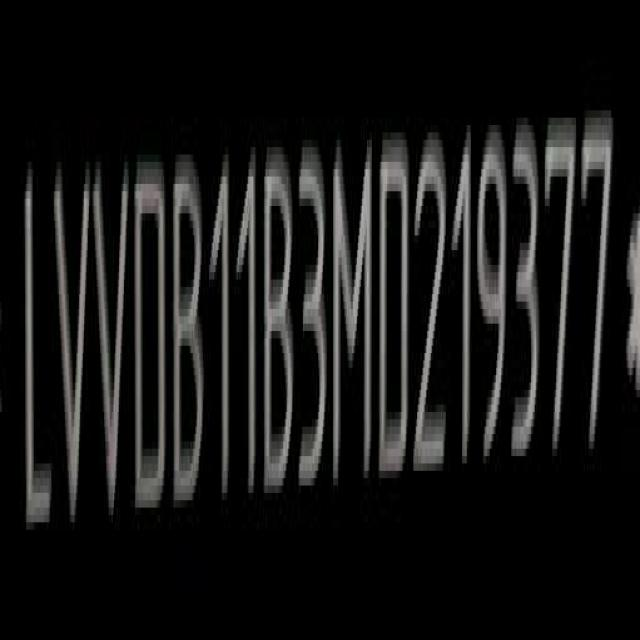1: (234, 147, 257, 509), (212, 154, 234, 513), (454, 130, 475, 483)
2: (415, 128, 450, 489)
3: (298, 139, 330, 496), (514, 113, 542, 474)
7: (584, 105, 616, 468), (549, 111, 578, 473)
9: (477, 127, 509, 477)
B: (173, 158, 209, 520), (263, 145, 295, 500)
D: (381, 126, 416, 491), (133, 158, 166, 527)
L: (19, 160, 51, 546)
M: (334, 138, 375, 494)
V: (53, 164, 91, 539), (95, 159, 131, 531)
